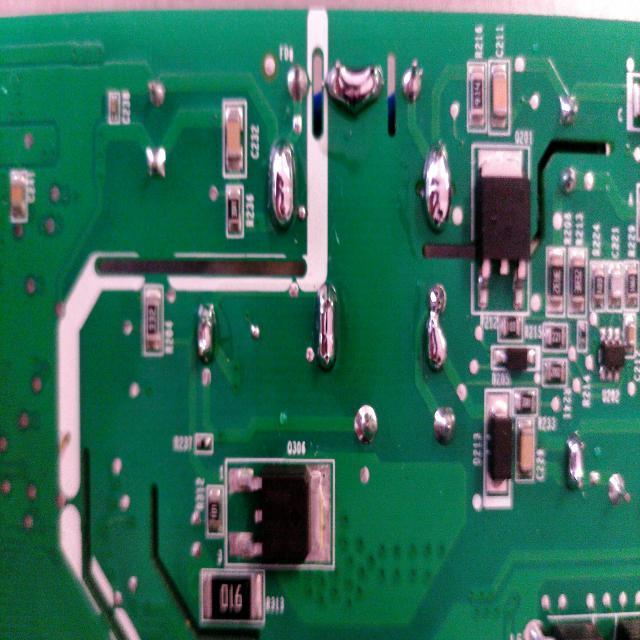Soldering shorted: (323, 58, 386, 116), (268, 137, 300, 233), (422, 140, 454, 233), (424, 276, 450, 376), (314, 279, 338, 382), (192, 298, 218, 376), (568, 428, 586, 494)
